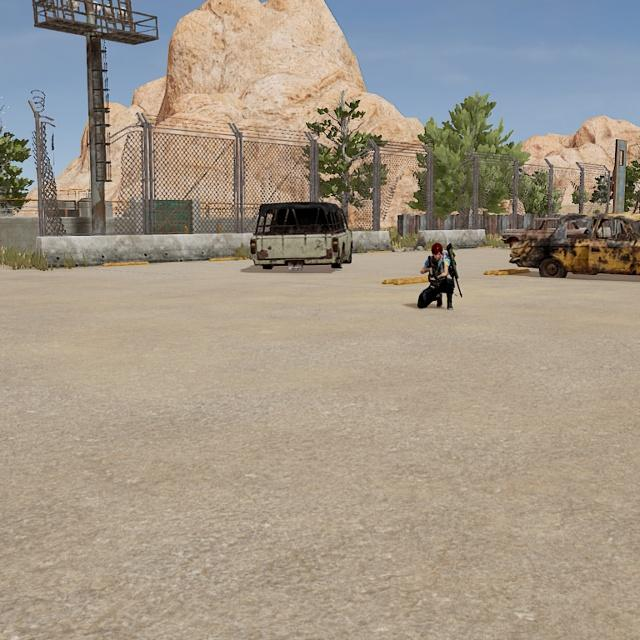head: (415, 240, 460, 313), (430, 242, 444, 261)
